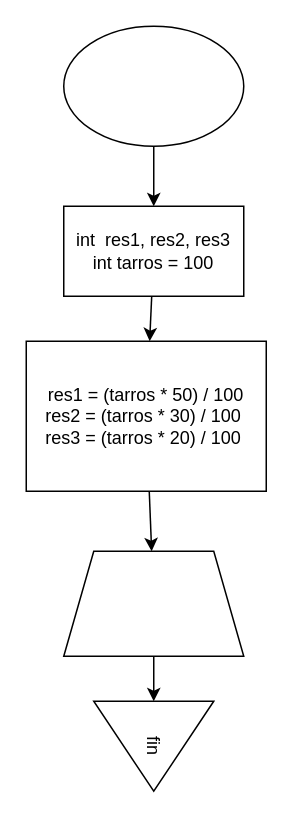
This 293x818 diagram has some shape labels left out. The shapes that lost their labels are listed below. From the top down, each one's centre as x and y in pixels, then its label:
point (153, 85): Cantidad de Tarros
point (153, 603): "Los tarros son 1Lt, 4Lts, 20Lts", res1, res2, res3
